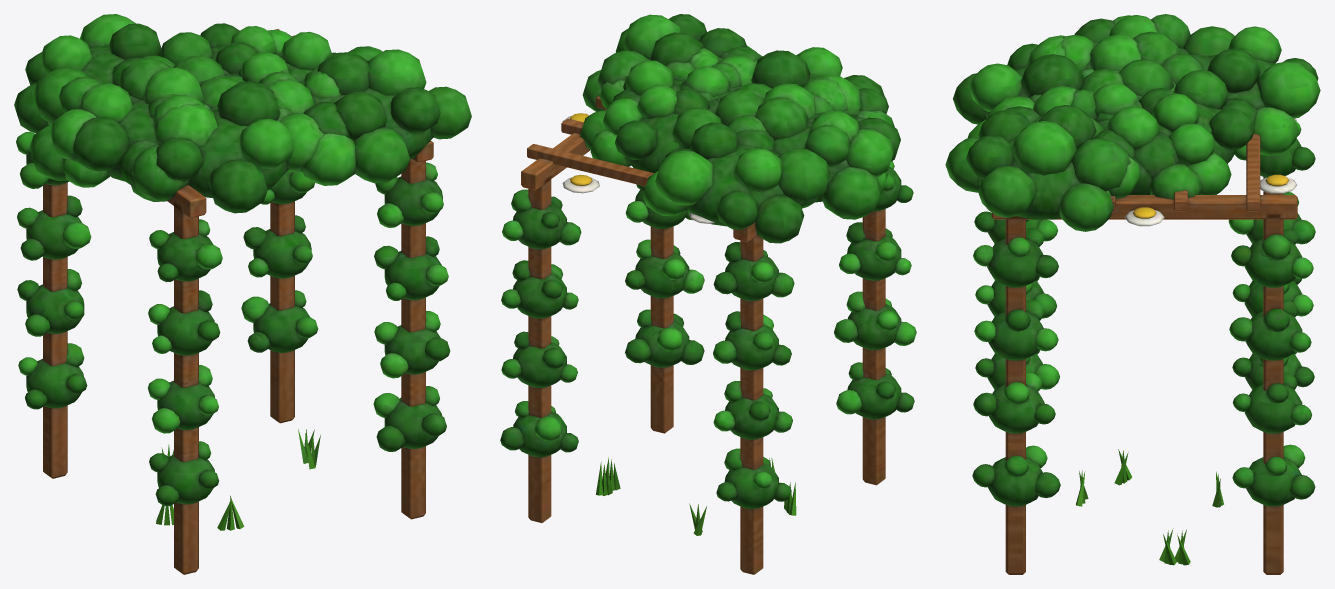
The model's file is kiwifruit_tree.glb.
The picture shows the model from 3 angles, left to right: view 1: azimuth 30°, elevation 25°; view 2: azimuth 150°, elevation 25°; view 3: azimuth 270°, elevation 25°; orthographic projection. The views are drawn at different scales.
Visible parts, largest first — view 1: crown, kiwifruit_tree; view 2: crown, kiwifruit_tree; view 3: crown, kiwifruit_tree.
Boxes of the visible parts, box(x1,y1,x2,y2) form: crown: box(14, 14, 471, 574); kiwifruit_tree: box(156, 429, 320, 530); crown: box(500, 14, 916, 574); kiwifruit_tree: box(596, 457, 796, 535); crown: box(945, 14, 1320, 574); kiwifruit_tree: box(1076, 449, 1223, 565).
Size of the model in its own units: 1.01 by 1.23 by 0.9319.
1 material, 1 textured.
